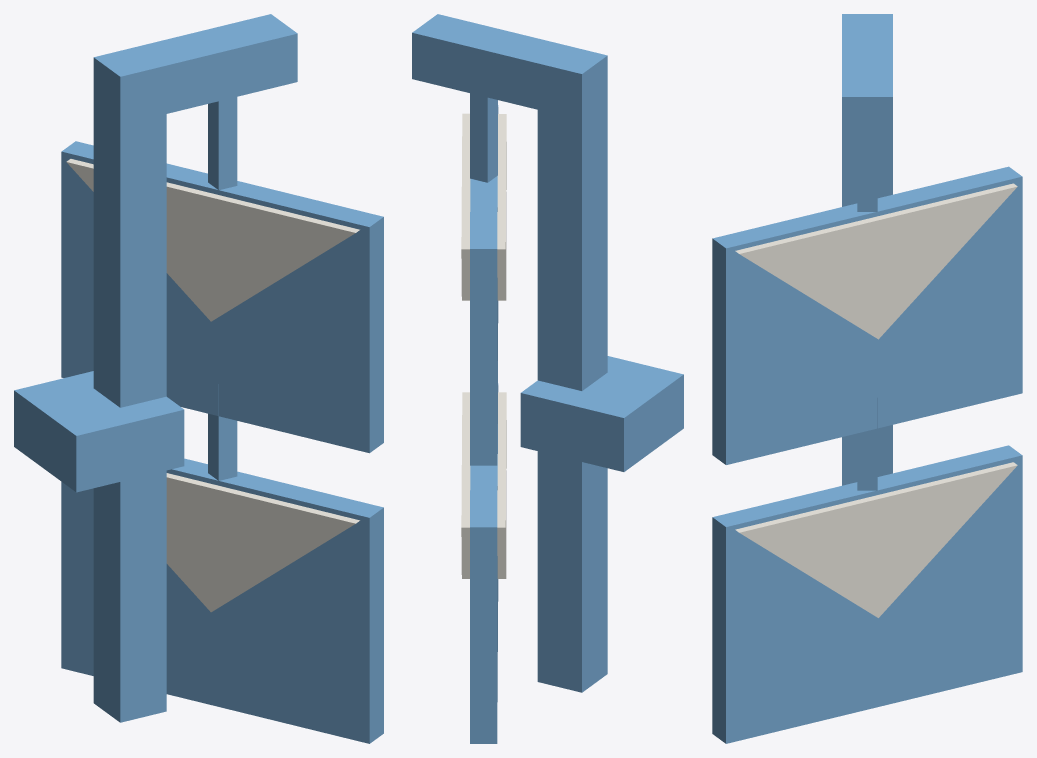
File: replyall_m1_1.glb
3 views of the same model, side by side, from view 1: azimuth 30°, elevation 25°; view 2: azimuth 150°, elevation 25°; view 3: azimuth 270°, elevation 25° (orthographic). The views are drawn at different scales.
Parts seen in each view (by area): view 1: replyall_m1_1_mesh; view 2: replyall_m1_1_mesh; view 3: replyall_m1_1_mesh.
Part boxes in pixels (<box>): replyall_m1_1_mesh: <box>14,14,383,743</box>; replyall_m1_1_mesh: <box>412,14,683,743</box>; replyall_m1_1_mesh: <box>712,14,1022,743</box>.
Bounding box in the file's own units: 0.173 × 0.41 × 0.1814.
